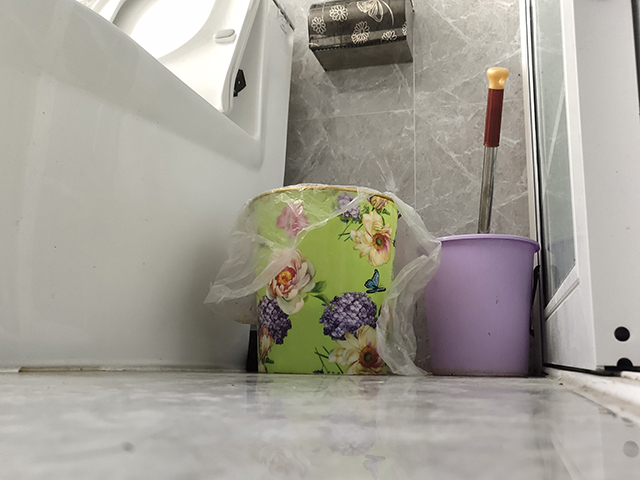closestool: (1, 1, 295, 375)
trashcan: (245, 182, 401, 377)
